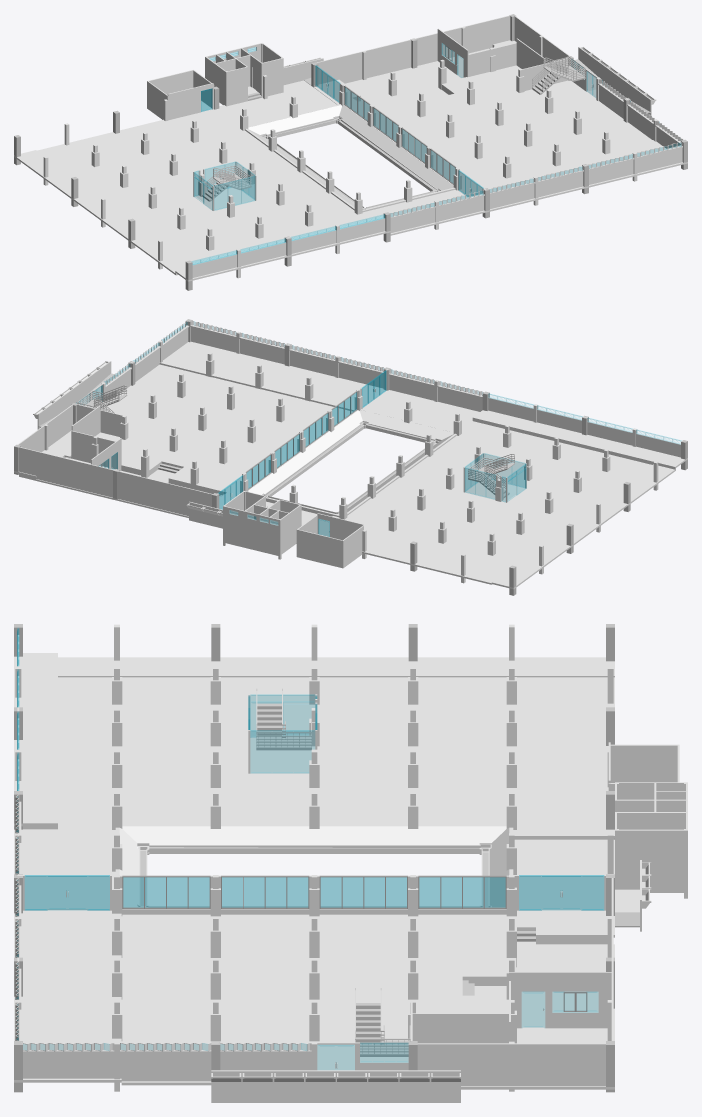
3 renders of one model, top to bottom at view 1: azimuth 30°, elevation 25°; view 2: azimuth 150°, elevation 25°; view 3: azimuth 270°, elevation 25°, orthographic. The views are drawn at different scales.
Visible parts, largest first — view 1: EN202B199, EN202B103, EN202B102, EN202B101; view 2: EN202B199, EN202B103, EN202B102, EN202B101; view 3: EN202B199, EN202B103, EN202B102, EN202B101.
Boxes of the visible parts, left/top/right/bottom form: EN202B199: left=14, top=57, right=489, bottom=290; EN202B103: left=311, top=14, right=687, bottom=218; EN202B102: left=205, top=43, right=283, bottom=105; EN202B101: left=147, top=70, right=219, bottom=120; EN202B199: left=186, top=367, right=687, bottom=595; EN202B103: left=14, top=319, right=390, bottom=517; EN202B102: left=223, top=491, right=301, bottom=559; EN202B101: left=296, top=514, right=366, bottom=568; EN202B199: left=14, top=624, right=683, bottom=931; EN202B103: left=14, top=874, right=614, bottom=1102; EN202B102: left=615, top=782, right=687, bottom=898; EN202B101: left=606, top=744, right=679, bottom=829.
Bounding box in the file's own units: 53.02 × 4.24 × 34.15.
